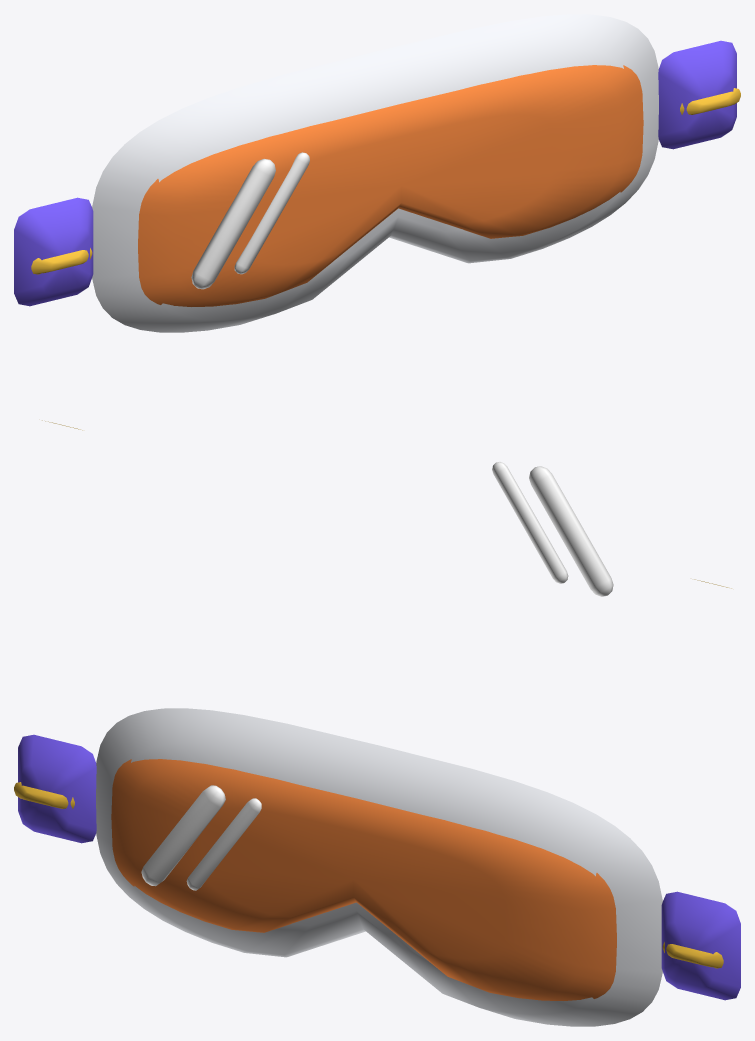
File: ski_goggles.glb
The picture shows the model from 3 angles, top to bottom: view 1: azimuth 30°, elevation 25°; view 2: azimuth 150°, elevation 25°; view 3: azimuth 330°, elevation 25°; orthographic projection.
Parts seen in each view (by area): view 1: ski_goggles; view 2: ski_goggles; view 3: ski_goggles.
Part boxes in pixels (<box>): ski_goggles: <box>14,14,740,332</box>; ski_goggles: <box>42,420,731,596</box>; ski_goggles: <box>14,708,740,1026</box>.
Bounding box in the file's own units: 0.546 × 0.1735 × 0.0408.
